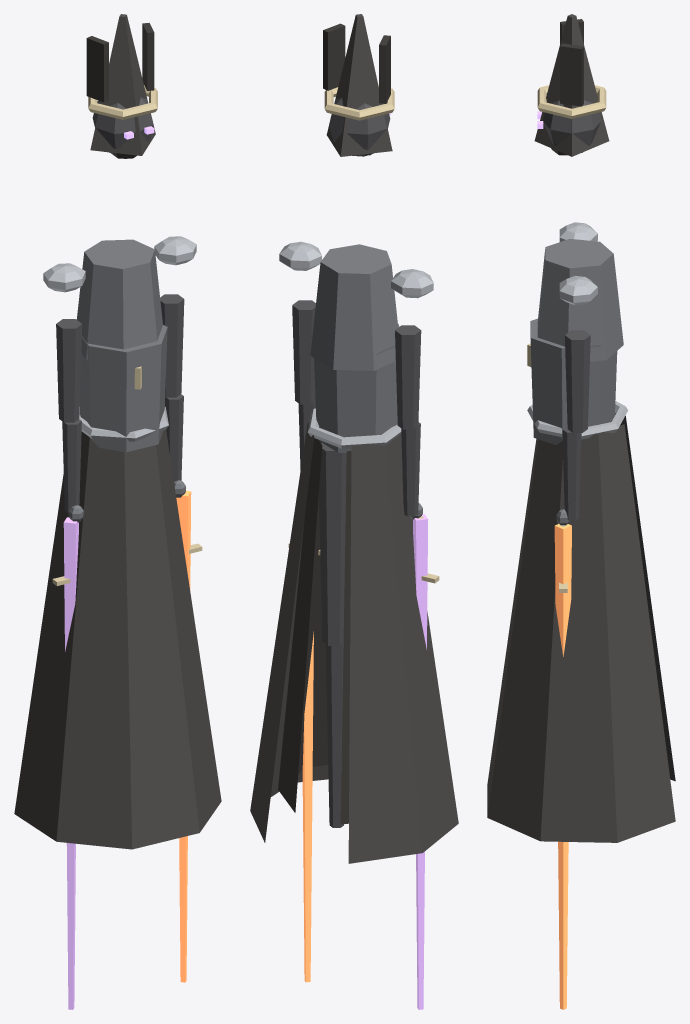
File: sulyvahn.glb
3 views of the same model, side by side, from view 1: azimuth 30°, elevation 25°; view 2: azimuth 150°, elevation 25°; view 3: azimuth 270°, elevation 25° (orthographic).
Parts seen in each view (by area): view 1: skirt1, chest, belly, crown, blade.001, armLUpper, blade, armRUpper, armLLower, crownWingL, skull, armRLower (+5 smaller); view 2: skirt1, skirt0, chest, belly, legRThigh, crown, blade, legRShin, blade.001, armLUpper, armRUpper, armLLower (+8 smaller); view 3: skirt1, chest, belly, blade, crown, armRUpper, armRLower, crownWingR, skull, crownBand, belt, pauldronR (+1 smaller).
Boxes of the visible parts, bbox=[...] form: skirt1: bbox=[14, 429, 221, 849]; chest: bbox=[76, 239, 162, 359]; belly: bbox=[79, 325, 167, 452]; crown: bbox=[90, 14, 155, 155]; blade.001: bbox=[63, 517, 78, 1009]; armLUpper: bbox=[56, 319, 82, 422]; blade: bbox=[176, 490, 191, 982]; armRUpper: bbox=[160, 294, 184, 397]; armLLower: bbox=[62, 419, 81, 513]; crownWingL: bbox=[86, 36, 108, 102]; skull: bbox=[92, 97, 153, 153]; armRLower: bbox=[165, 394, 183, 481]; skirt1: bbox=[250, 421, 458, 863]; skirt0: bbox=[278, 438, 351, 824]; chest: bbox=[310, 244, 398, 370]; belly: bbox=[314, 324, 399, 452]; legRThigh: bbox=[319, 443, 346, 645]; crown: bbox=[326, 14, 392, 156]; blade: bbox=[302, 631, 313, 982]; legRShin: bbox=[325, 643, 343, 827]; blade.001: bbox=[413, 514, 428, 1009]; armLUpper: bbox=[395, 325, 421, 429]; armRUpper: bbox=[292, 300, 315, 404]; armLLower: bbox=[401, 422, 420, 516]; skirt1: bbox=[487, 413, 675, 842]; chest: bbox=[537, 239, 623, 361]; belly: bbox=[530, 318, 617, 444]; blade: bbox=[554, 524, 571, 1009]; crown: bbox=[534, 14, 609, 156]; armRUpper: bbox=[564, 330, 590, 432]; armRLower: bbox=[562, 425, 581, 520]; crownWingR: bbox=[560, 43, 583, 106]; skull: bbox=[542, 100, 601, 152]; crownBand: bbox=[537, 85, 606, 118]; belt: bbox=[527, 401, 628, 439]; pauldronR: bbox=[559, 276, 597, 305].
Size of the model in its own units: 0.6802 by 3.7 by 0.6543.
